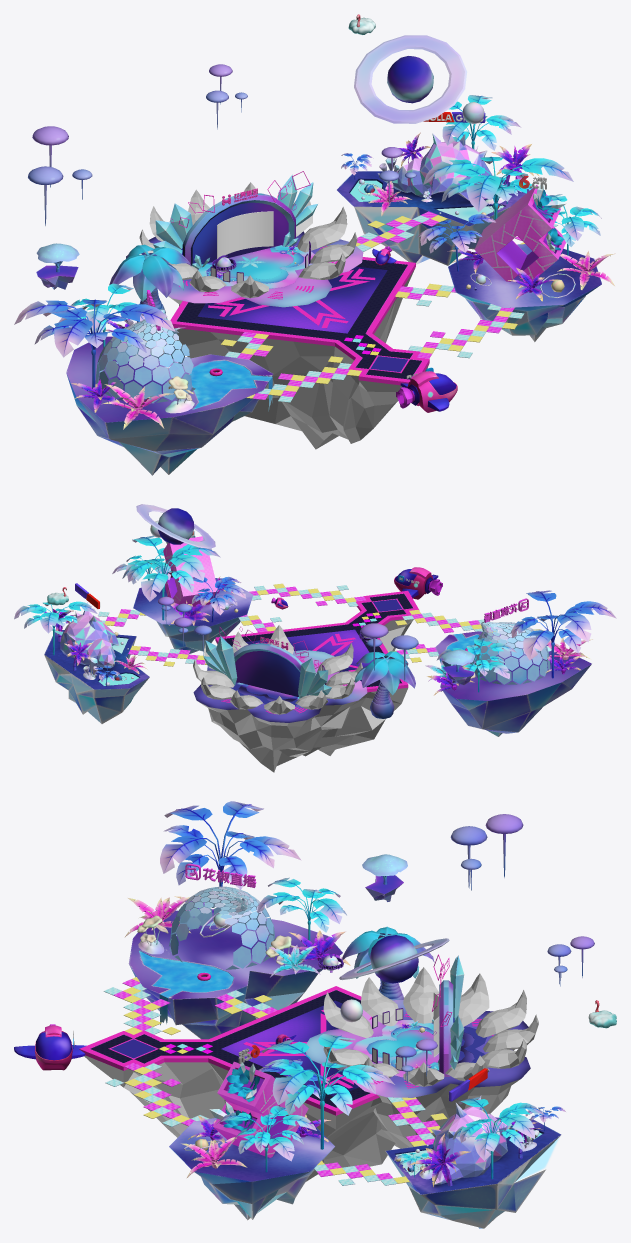
3 renders of one model, top to bottom at view 1: azimuth 30°, elevation 25°; view 2: azimuth 150°, elevation 25°; view 3: azimuth 270°, elevation 25°, orthographic. The views are drawn at different scales.
Parts seen in each view (by area): view 1: changjingda2:moxing_cs_566, changjingda2:moxing_cs_399, changjingda2:moxing_cs_663, changjingda2:moxing_cs_627, changjingda2:moxing_cs_667; view 2: changjingda2:moxing_cs_566, changjingda2:moxing_cs_797, changjingda2:moxing_cs_663; view 3: changjingda2:moxing_cs_566, changjingda2:moxing_cs_636, changjingda2:moxing_cs_627, changjingda2:moxing_cs_663, changjingda2:moxing_cs_678, changjingda2:moxing_cs_667, changjingda2:moxing_cs_680.
Boxes of the visible parts, x1,y1,x2,y2 form: changjingda2:moxing_cs_566: (14,14,601,475); changjingda2:moxing_cs_399: (217,211,273,258); changjingda2:moxing_cs_663: (101,384,173,429); changjingda2:moxing_cs_627: (557,251,615,289); changjingda2:moxing_cs_667: (165,376,194,413); changjingda2:moxing_cs_566: (14,504,616,772); changjingda2:moxing_cs_797: (169,600,210,625); changjingda2:moxing_cs_663: (542,638,592,659); changjingda2:moxing_cs_566: (14,801,616,1228); changjingda2:moxing_cs_636: (409,1133,470,1187); changjingda2:moxing_cs_627: (181,1137,247,1178); changjingda2:moxing_cs_663: (124,897,190,937); changjingda2:moxing_cs_678: (289,930,350,965); changjingda2:moxing_cs_667: (137,915,168,954); changjingda2:moxing_cs_680: (269,945,320,977).
Bounding box in the file's own units: 8510 × 4219 × 6908.
